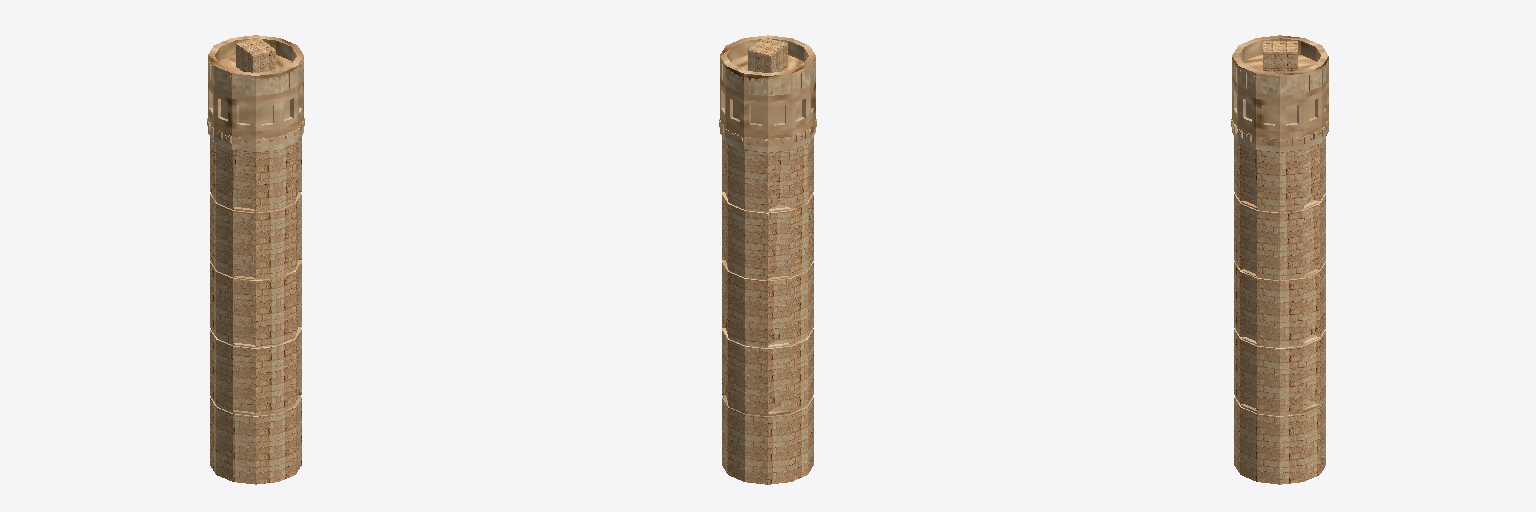
3 renders of one model, left to right at view 1: azimuth 30°, elevation 25°; view 2: azimuth 150°, elevation 25°; view 3: azimuth 270°, elevation 25°, orthographic.
Visible parts, largest first — view 1: Cube.025; view 2: Cube.025; view 3: Cube.025.
Boxes of the visible parts, x1=… form: Cube.025: x1=207, y1=35, x2=304, y2=484; Cube.025: x1=719, y1=35, x2=816, y2=484; Cube.025: x1=1231, y1=35, x2=1328, y2=484.
Bounding box in the file's own units: 5.7 × 26.76 × 5.67.
2 materials, 1 textured.